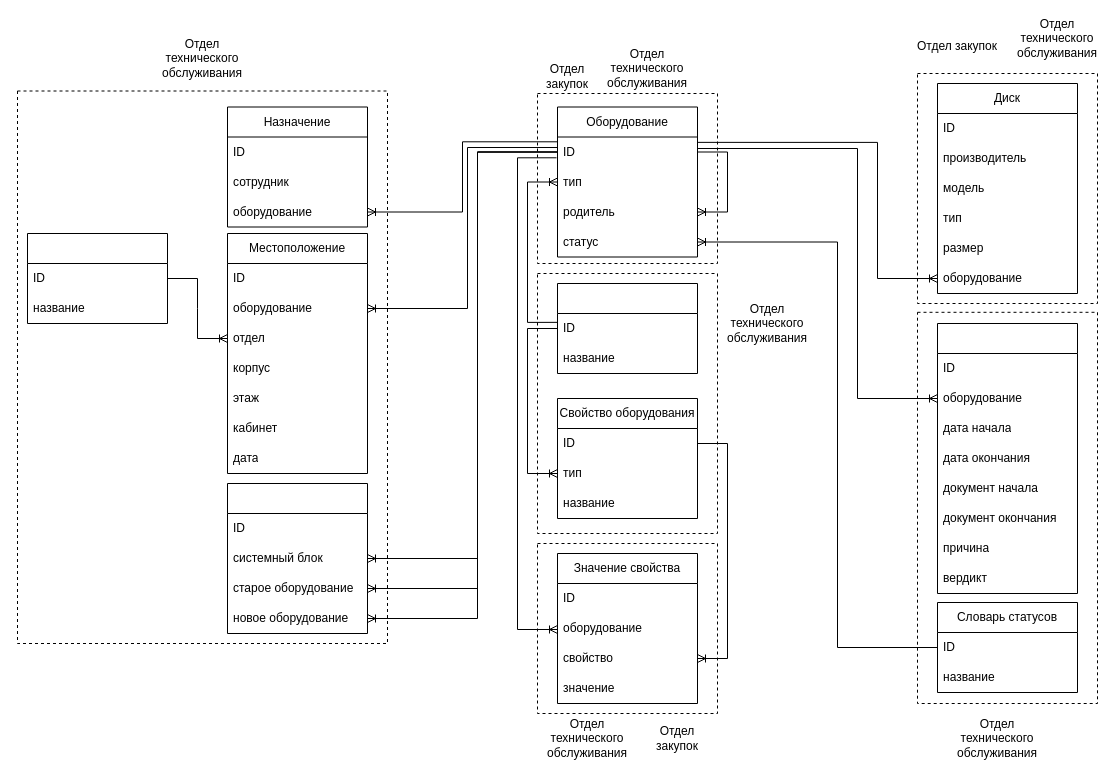
Some shapes in this 1115 by 777 pixel diagram are drawn without their labels. Here are the shapes that lost their labels. From the top down, the box of each, then its label:
(26, 232, 168, 324): Словарь отделов
(556, 282, 698, 374): Тип оборудования
(936, 322, 1078, 594): Ремонт
(226, 482, 368, 634): История
